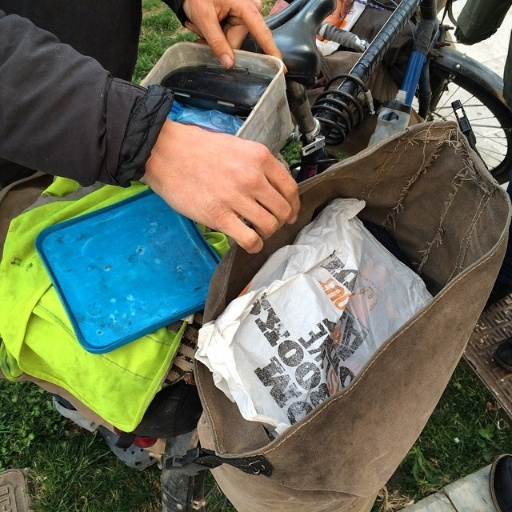hand: (153, 131, 316, 246), (180, 0, 289, 76)
